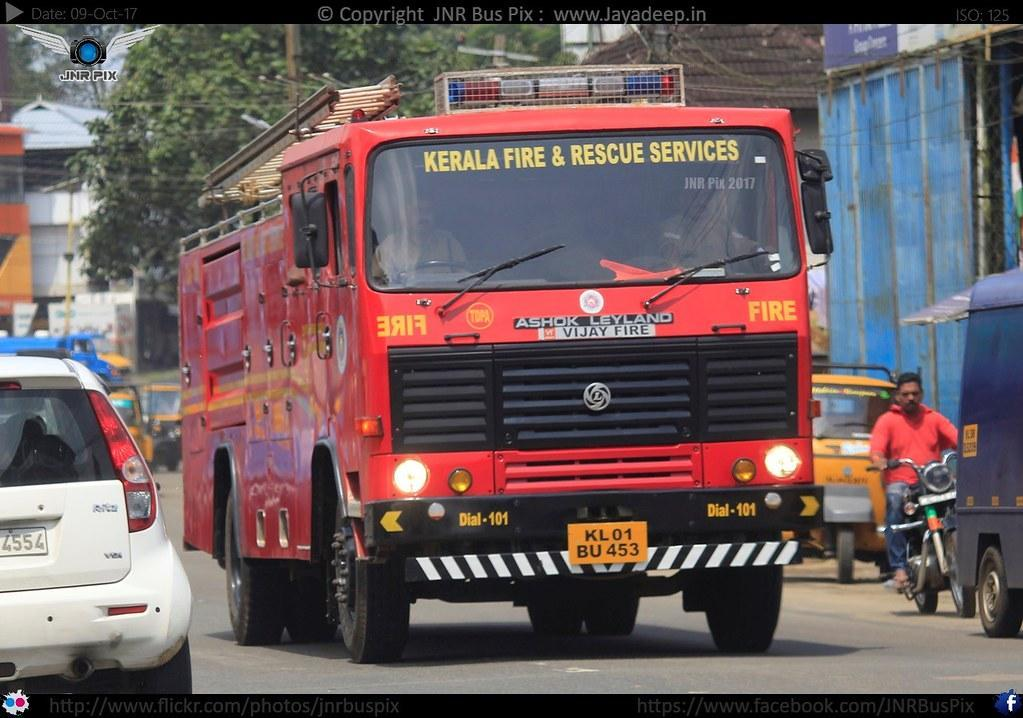Fire-engine: (185, 31, 822, 664), (429, 73, 704, 109), (746, 288, 808, 335), (360, 305, 436, 339), (569, 139, 647, 169), (502, 142, 550, 172)
